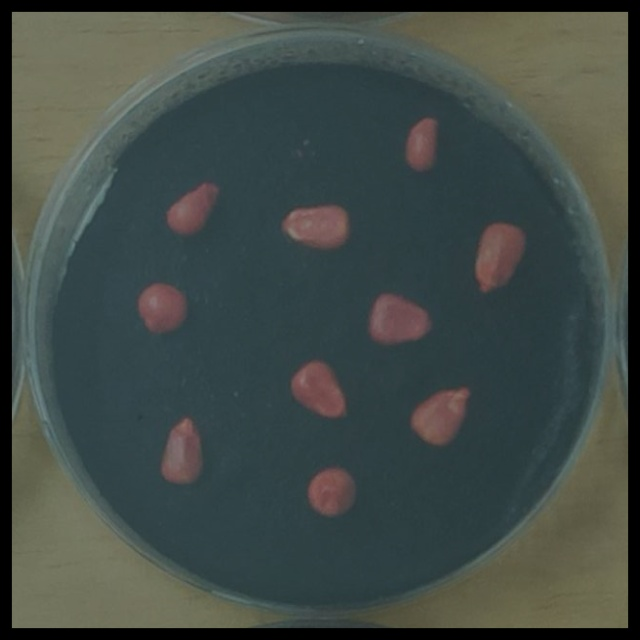Zea mays: (467, 214, 533, 303), (402, 378, 477, 453), (361, 284, 442, 353), (283, 353, 356, 428), (273, 196, 357, 258), (158, 174, 227, 242), (130, 273, 196, 343), (153, 410, 209, 492), (300, 462, 363, 524), (397, 110, 446, 180)
